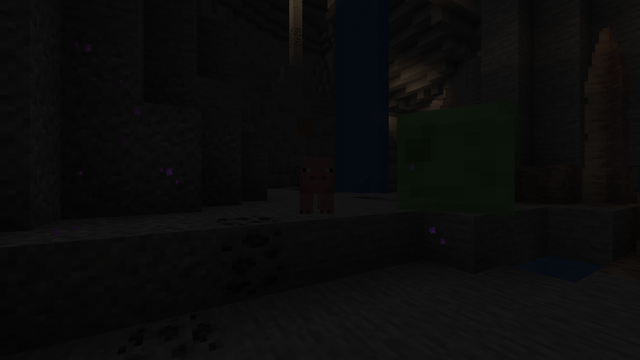cochons: (286, 164, 347, 215)
slimes: (386, 93, 530, 215)
